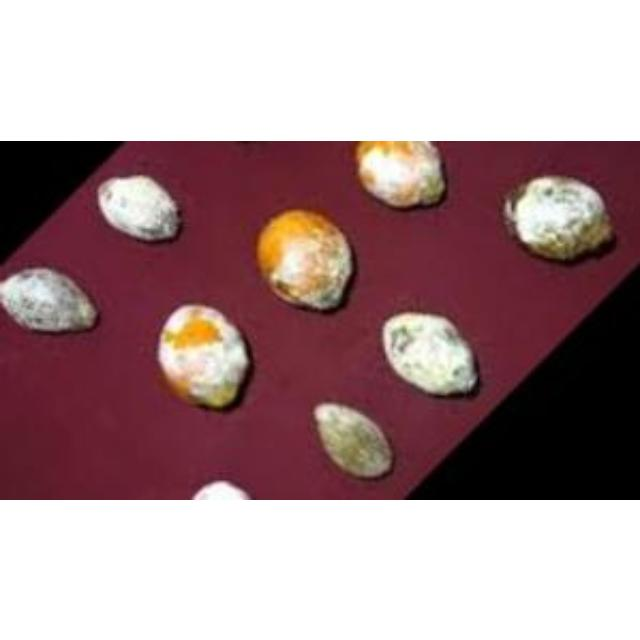damaged: (158, 304, 252, 414), (255, 207, 352, 309), (502, 172, 614, 260), (382, 309, 478, 396), (1, 265, 99, 333), (312, 400, 394, 480), (354, 140, 444, 208), (96, 172, 182, 242)
